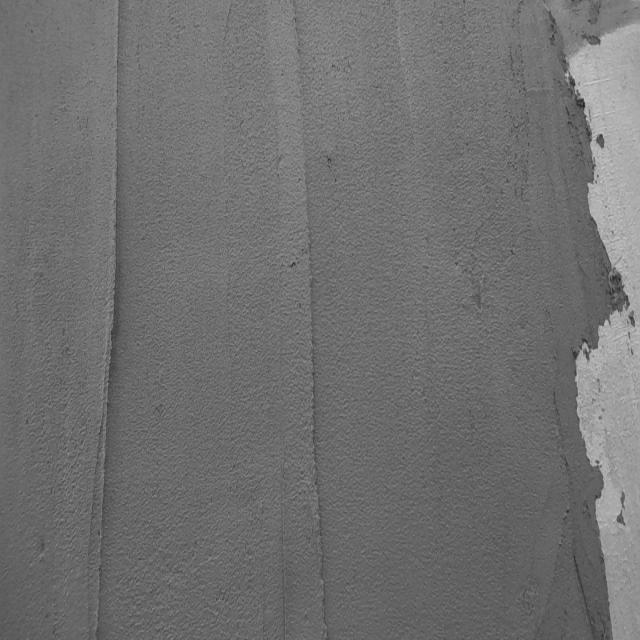trowels marks: (93, 2, 130, 640), (292, 17, 328, 640)
